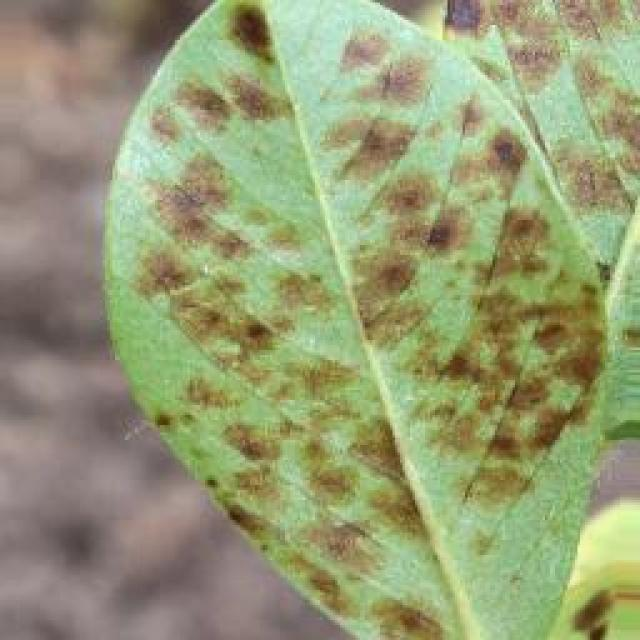Whitefly: (115, 0, 640, 632)
